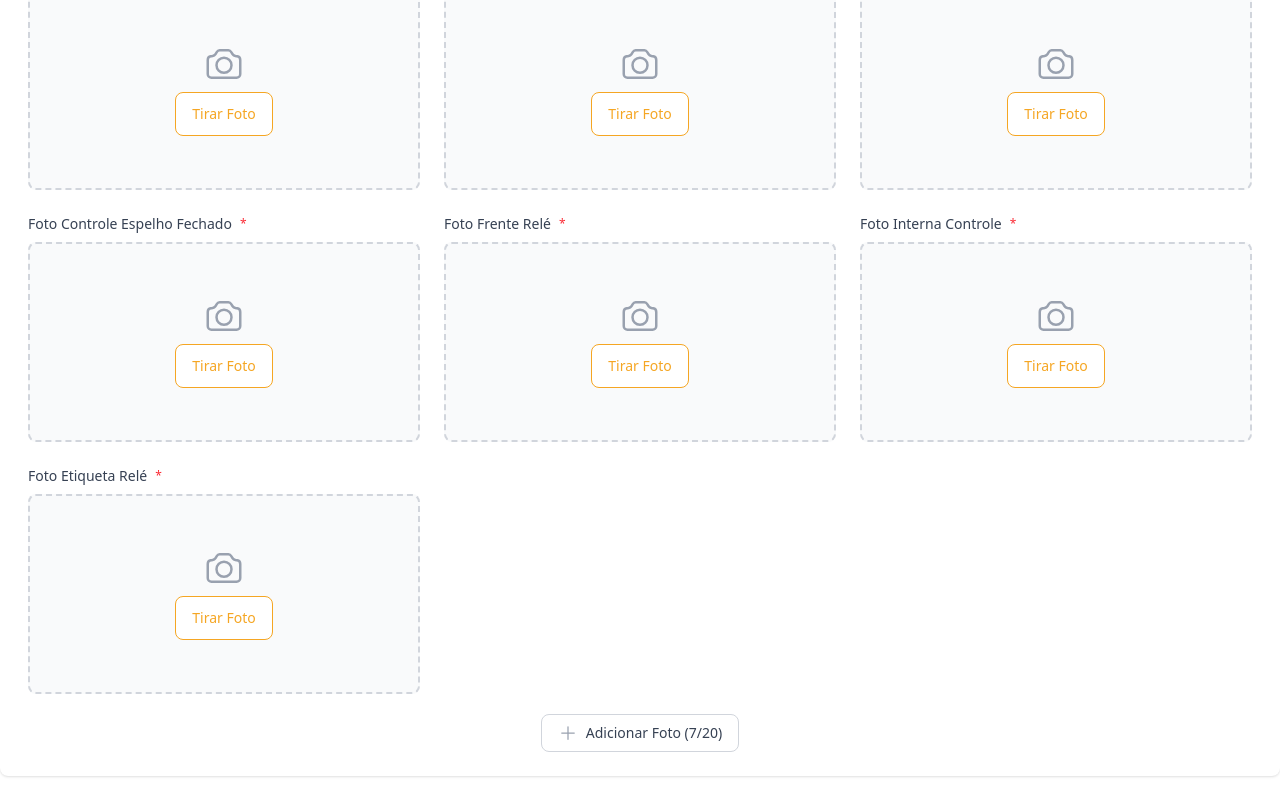
Test: PhotoSection - Dynamic photos (RF-08) › adds multiple dynamic slots with sequential numbering
(page scrolled)
Click the button with test id "add-photo-btn" at (640, 733), box x1=541 y1=714 x2=739 y2=752
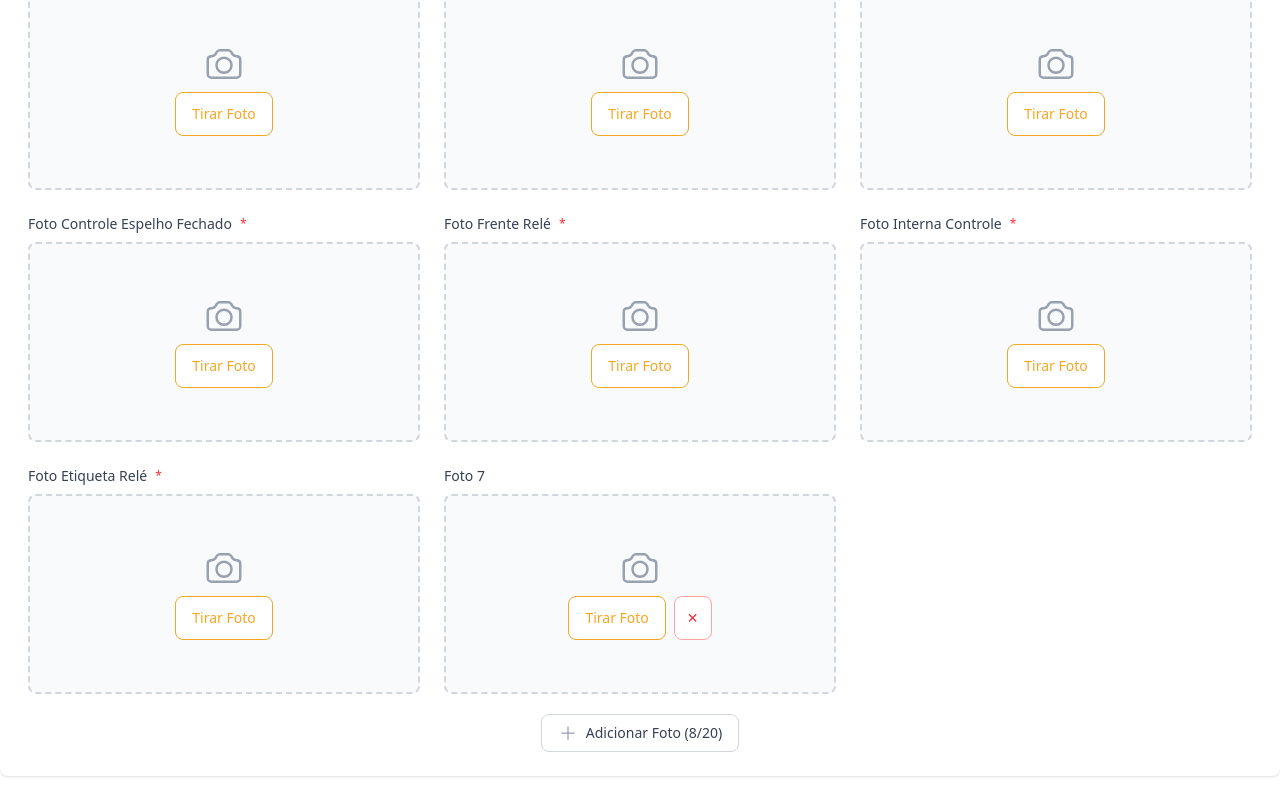
Click the button with test id "add-photo-btn" at (640, 733), box x1=541 y1=714 x2=739 y2=752
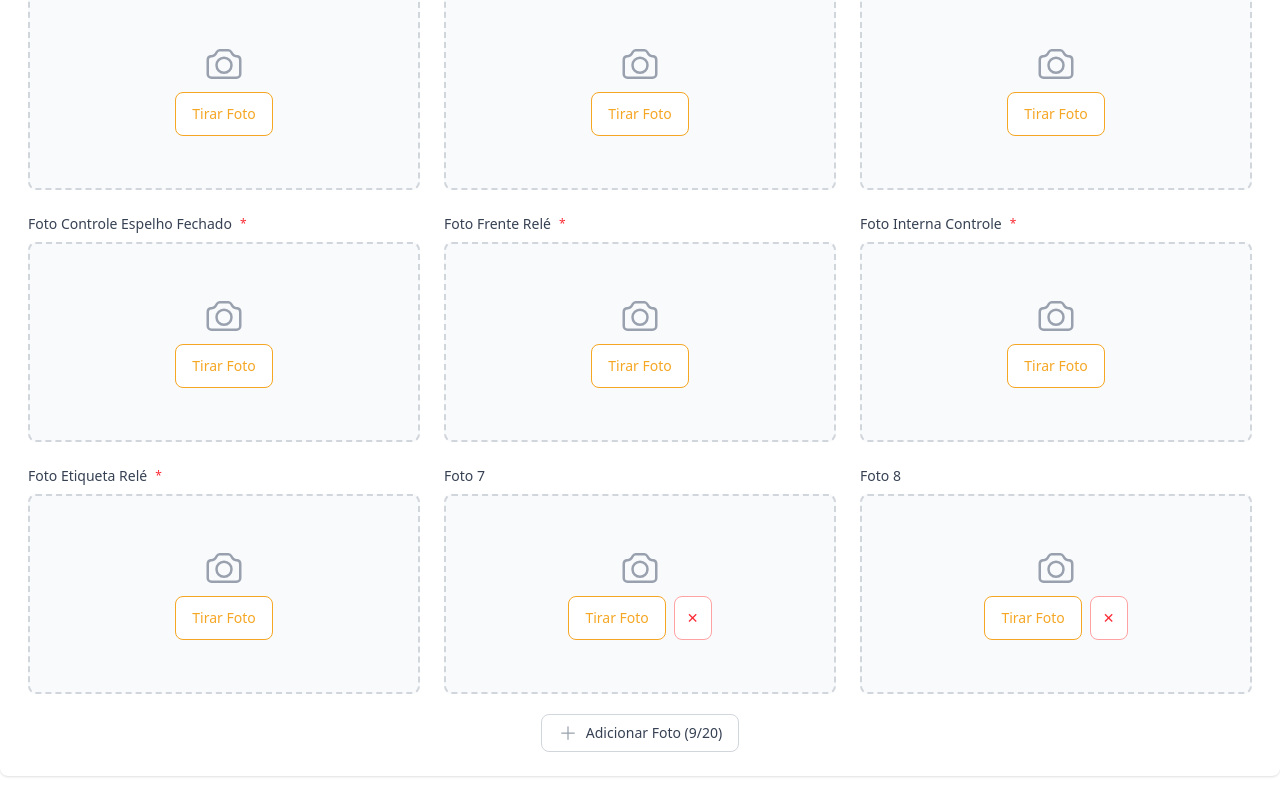
Click the button with test id "add-photo-btn" at (640, 733), box x1=541 y1=714 x2=739 y2=752
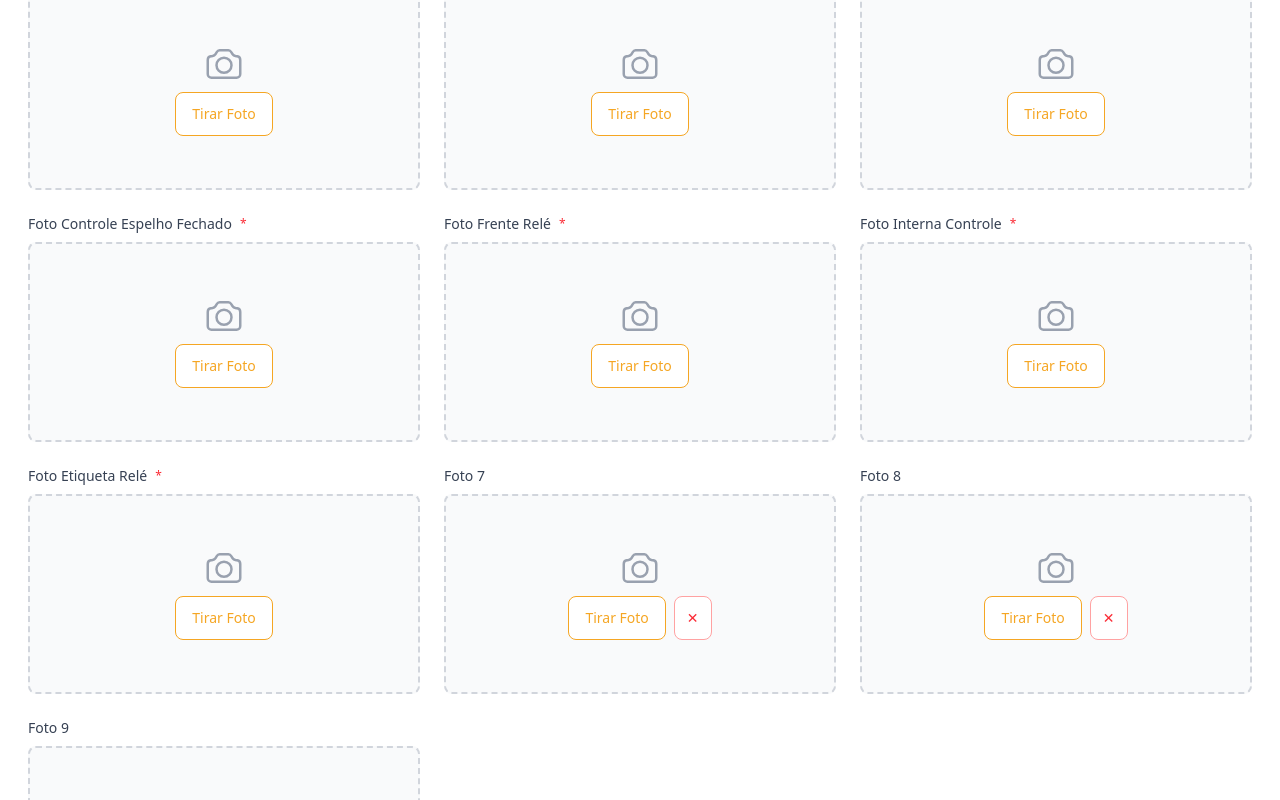
Now the text "Foto 7" is shown, box x1=444 y1=466 x2=485 y2=486
Now the text "Foto 8" is shown, box x1=860 y1=466 x2=901 y2=486
Now the text "Foto 9" is shown, box x1=28 y1=718 x2=69 y2=738
